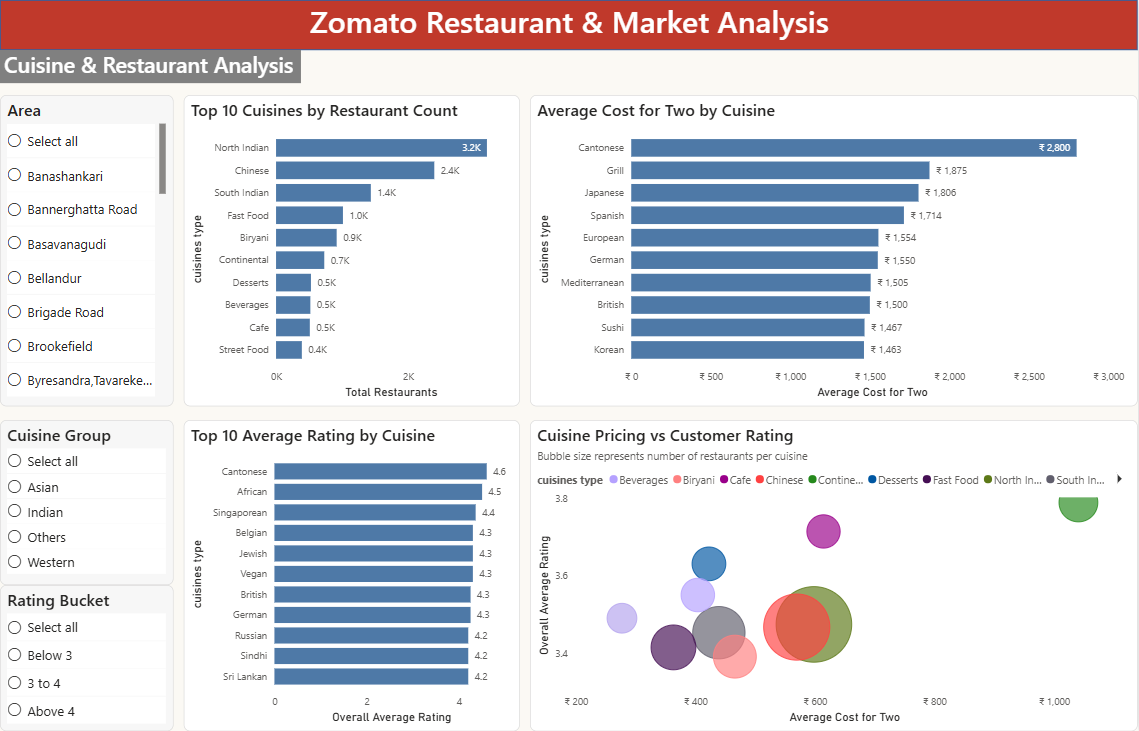

This screenshot's page, from the dashboard's own definition file:
{"tool":"powerbi","page":{"name":"Cuisine & Restaurant Analysis","canvas":[1400,900],"ordinal":2},"visuals":[{"type":"textbox","title":"Zomato Restaurant & Market Analysis ","box":[0,0,1400,61.5],"z":0},{"type":"textbox","title":"Cuisine & Restaurant Analysis","box":[0,61.5,370,41],"z":1000},{"type":"listSlicer","title":"Area","fields":{"Values":["zomato.area"]},"box":[0,116.9,213.8,383.1],"z":1001},{"type":"listSlicer","fields":{"Values":["zomato.Rating Bucket"]},"box":[0,720,213.8,180],"z":1002},{"type":"clusteredBarChart","title":"Top 10 Cuisines by Restaurant Count","fields":{"Category":["zomato.cuisines type"],"Y":["_Measures.Total Restaurants"]},"box":[226.2,116.9,413.8,383.1],"z":1003},{"type":"clusteredBarChart","title":"Top 10 Average Rating by Cuisine","fields":{"Category":["zomato.cuisines type"],"Y":["_Measures.Overall Average Rating"]},"box":[226.2,516.9,413.8,383.1],"z":1004},{"type":"clusteredBarChart","title":"Average Cost for Two by Cuisine","fields":{"Category":["zomato.cuisines type"],"Y":["_Measures.Average Cost for Two"]},"box":[652.3,116.9,747.7,383.1],"z":1005},{"type":"scatterChart","title":"Cuisine Pricing vs Customer Rating","fields":{"X":["_Measures.Average Cost for Two"],"Y":["_Measures.Overall Average Rating"],"Category":["zomato.cuisines type"],"Size":["_Measures.Total Restaurants"],"Series":["zomato.cuisines type"]},"box":[652.3,516.9,747.7,383.1],"z":1006},{"type":"listSlicer","title":"Cuisine Group","fields":{"Values":["zomato.Cuisine Group"]},"box":[0,516.9,213.8,203.1],"z":1007}]}

Visuals, with their boxes in screenshot pixels (x1, y1, x2, y2), scaled from the page's 1400x900 canvas onto the 1139x731 screenshot:
"Zomato Restaurant & Market Analysis " textbox: <bbox>0, 0, 1138, 50</bbox>
"Cuisine & Restaurant Analysis" textbox: <bbox>0, 50, 301, 83</bbox>
"Area" listSlicer: <bbox>0, 95, 174, 406</bbox>
listSlicer - zomato.Rating Bucket: <bbox>0, 585, 174, 730</bbox>
"Top 10 Cuisines by Restaurant Count" clusteredBarChart: <bbox>184, 95, 521, 406</bbox>
"Top 10 Average Rating by Cuisine" clusteredBarChart: <bbox>184, 420, 521, 730</bbox>
"Average Cost for Two by Cuisine" clusteredBarChart: <bbox>531, 95, 1138, 406</bbox>
"Cuisine Pricing vs Customer Rating" scatterChart: <bbox>531, 420, 1138, 730</bbox>
"Cuisine Group" listSlicer: <bbox>0, 420, 174, 585</bbox>
